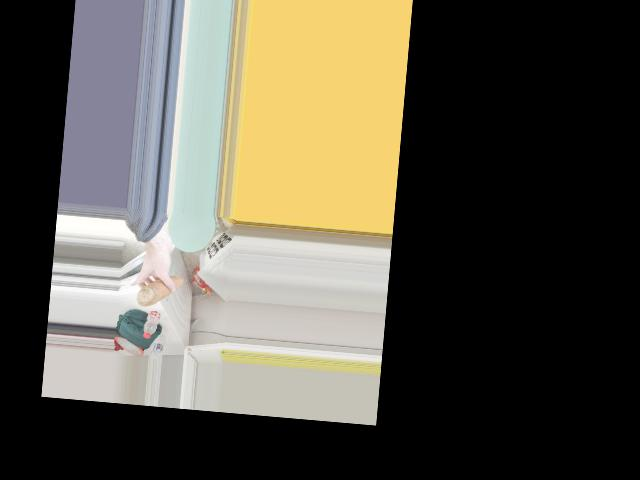sweet_potato: (136, 274, 184, 310)
